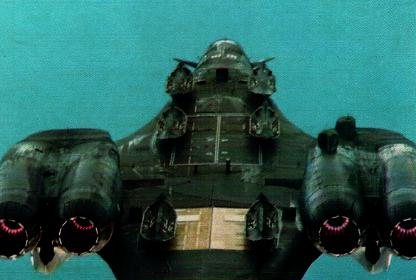AV8B: (0, 33, 415, 280)
